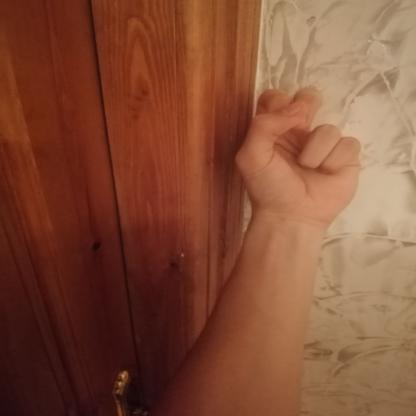QAAF: (212, 77, 384, 235)
